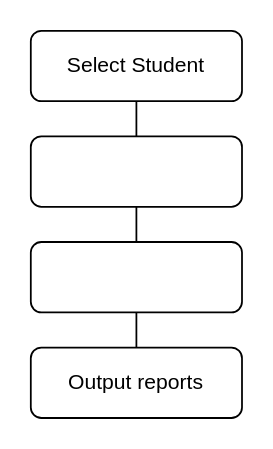
This 273x449 diagram has some shape labels left out. Each missing label, with the box of its shape:
Get Student's ID: (29, 135, 242, 207)
Select reports with both student's and PSs ID: (29, 240, 242, 312)
